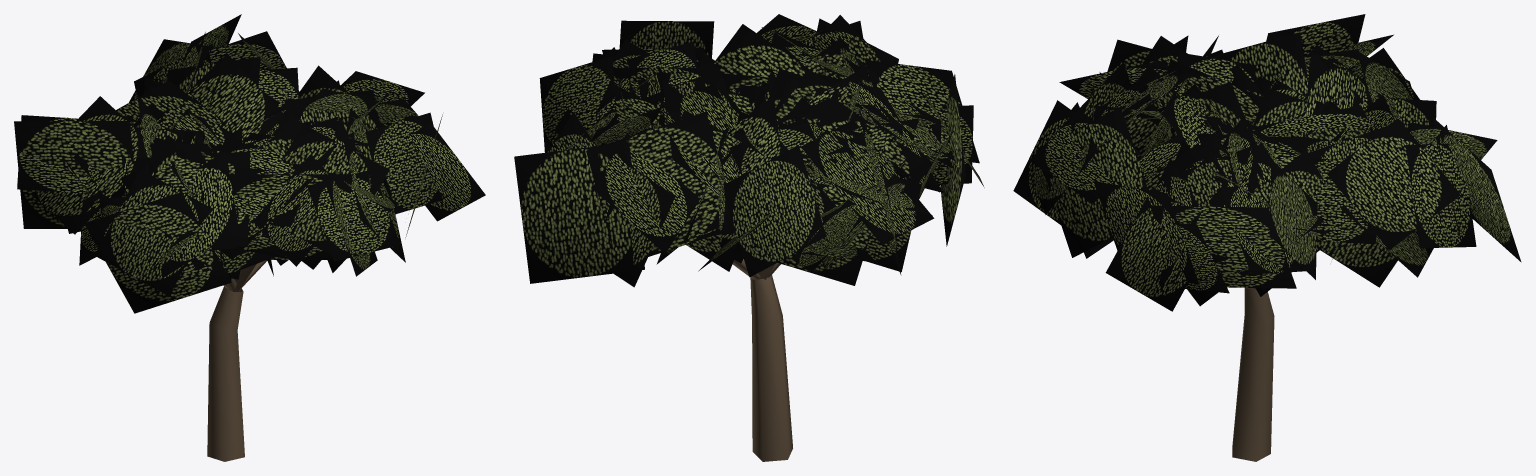
File: andes_molle_lod1.glb
3 renders of one model, left to right at view 1: azimuth 30°, elevation 25°; view 2: azimuth 150°, elevation 25°; view 3: azimuth 270°, elevation 25°, orthographic. The views are drawn at different scales.
Parts seen in each view (by area): view 1: GEO-Andes_molle_LOD1; view 2: GEO-Andes_molle_LOD1; view 3: GEO-Andes_molle_LOD1.
Part boxes in pixels (x1,y1,x2,y2): GEO-Andes_molle_LOD1: [14, 14, 485, 461]; GEO-Andes_molle_LOD1: [514, 14, 984, 461]; GEO-Andes_molle_LOD1: [1013, 14, 1521, 461].
Size of the model in its own units: 6.73 by 5.99 by 7.13.
2 materials, 1 textured.
